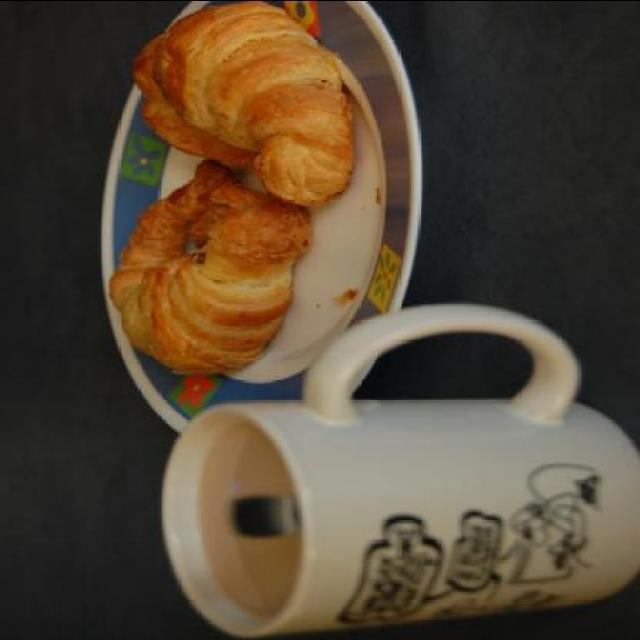Croissant: (130, 0, 352, 203), (107, 158, 311, 372)
